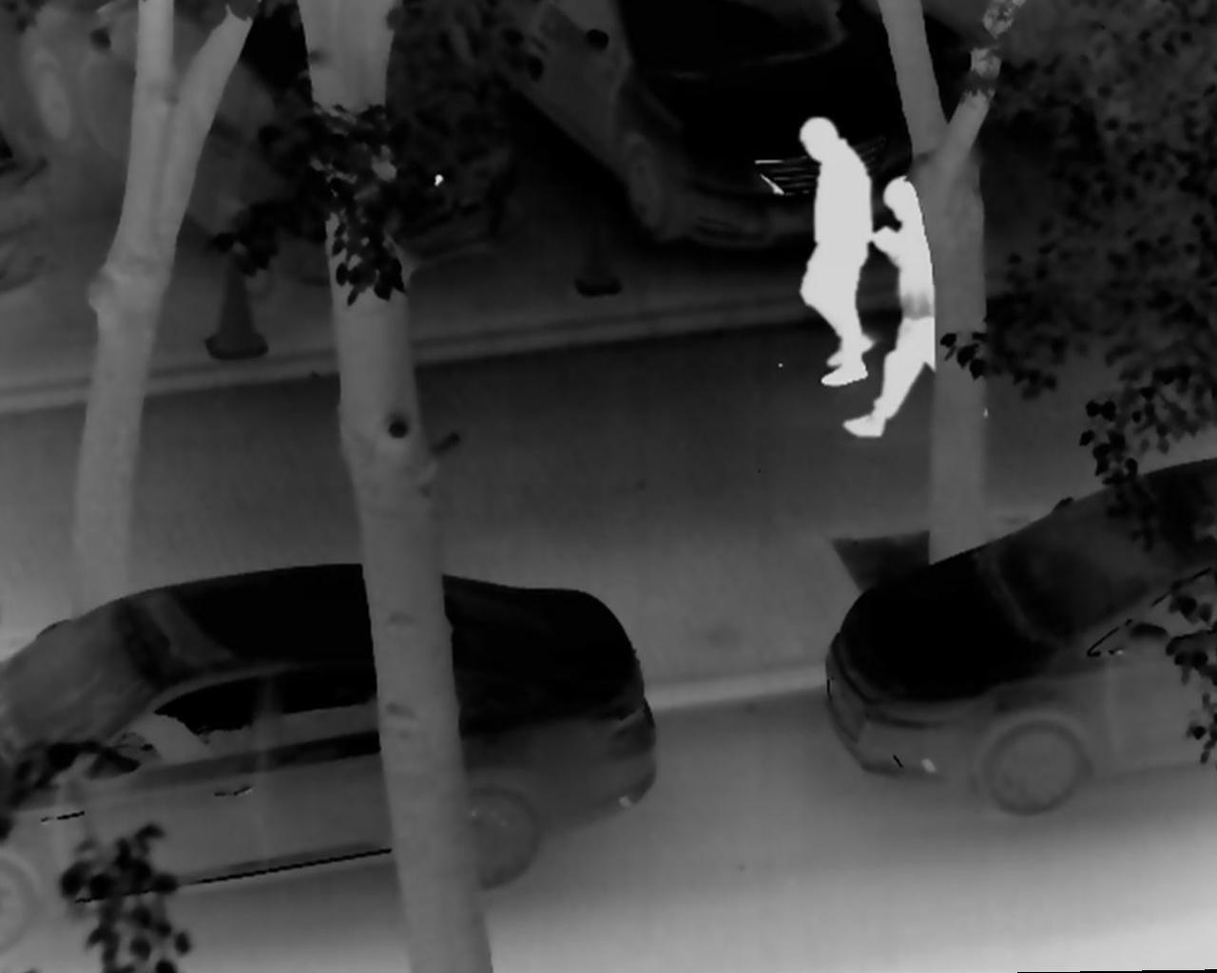person: (841, 168, 989, 441), (778, 113, 879, 390)
